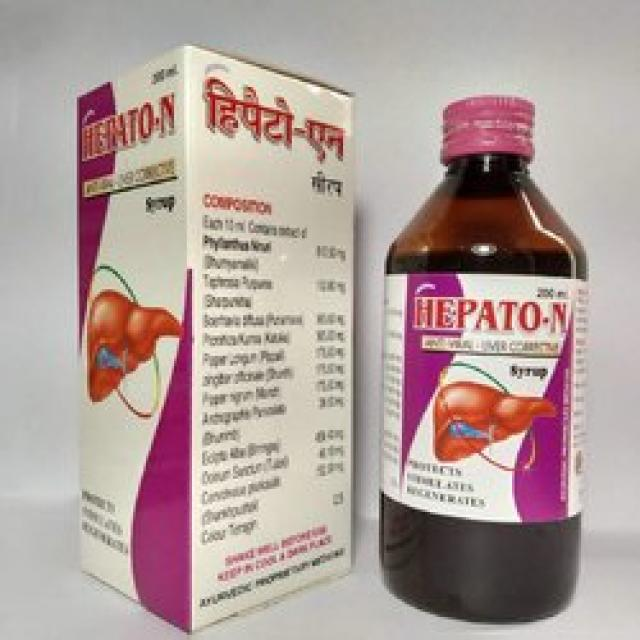B3: (364, 82, 622, 632)
